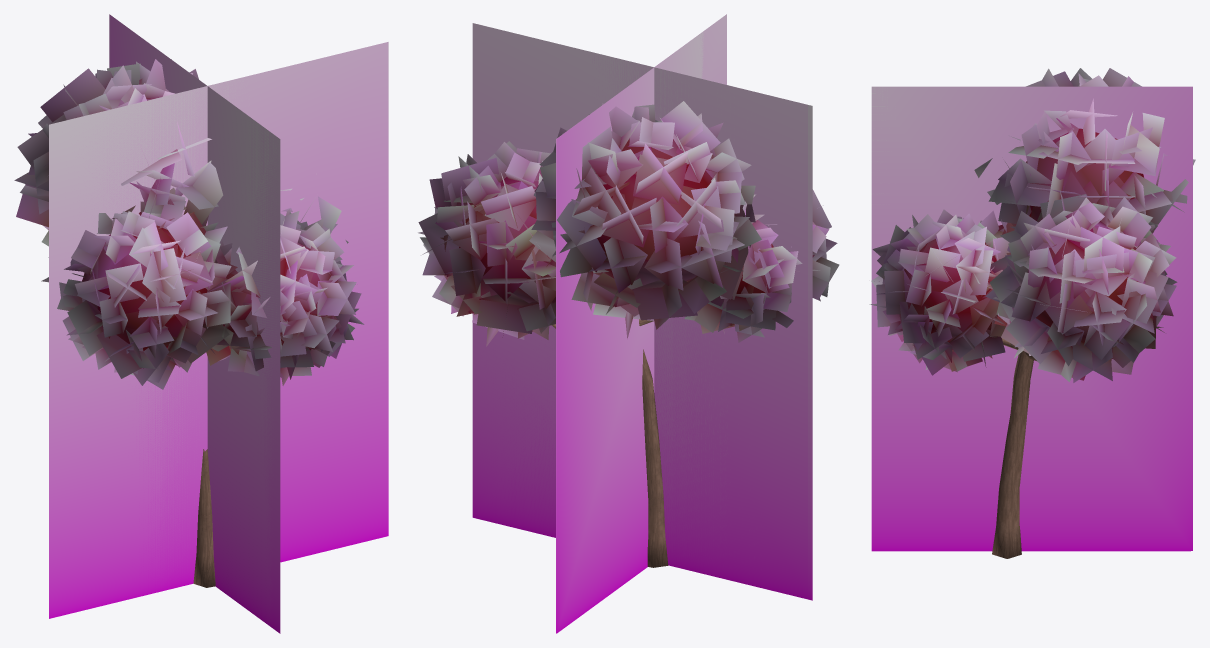
The model's file is FAE_Tree_B.fbx.
3 views of the same model, side by side, from view 1: azimuth 30°, elevation 25°; view 2: azimuth 150°, elevation 25°; view 3: azimuth 270°, elevation 25° (orthographic). The views are drawn at different scales.
Parts seen in each view (by area): view 1: FAE_Tree_B_Billboard, FAE_Tree_B_LOD0; view 2: FAE_Tree_B_Billboard, FAE_Tree_B_LOD0; view 3: FAE_Tree_B_Billboard, FAE_Tree_B_LOD0.
Boxes of the visible parts, x1,y1,x2,y2 form: FAE_Tree_B_Billboard: (49,14,388,633); FAE_Tree_B_LOD0: (14,59,364,587); FAE_Tree_B_Billboard: (472,14,812,633); FAE_Tree_B_LOD0: (418,101,839,567); FAE_Tree_B_Billboard: (871,86,1192,551); FAE_Tree_B_LOD0: (869,68,1195,558).
Size of what is drawn, in the model's own units: 768 by 1069 by 683.
